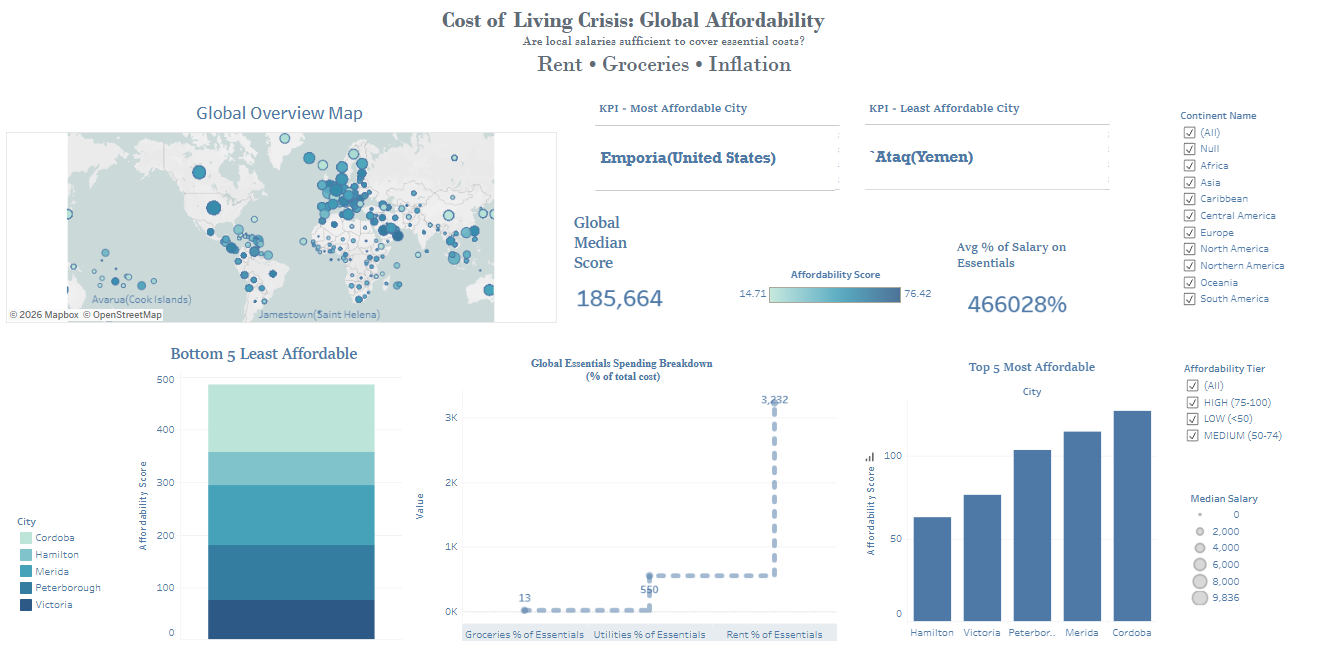

Layout of this report page (visuals, bound fields, positions):
{"tool":"tableau","page":{"name":"Global Affordability Tracker 2025","canvas":[1600,800],"ordinal":2},"visuals":[{"type":"text","box":[0,0,1600,116]},{"type":"text","box":[0,116,1600,684]},{"type":"worksheet","title":"1) Global Overview Map","mark":"Circle","box":[11,124,661,272]},{"type":"worksheet","title":"KPI – Least Affordable (City)","mark":"Automatic","rows":["Calculation_1248623037751099394"],"box":[1042,125,315,111]},{"type":"worksheet","title":" KPI – Most Affordable (City).","mark":"Automatic","rows":["Calculation_1248623037751099394"],"box":[718,126,300,165]},{"type":"filter","title":"1) Global Overview Map","param":"[federated.01ods2h1wf629m1bzxo0s10bfq2g].[none:continent_name:nk]","box":[1420,138,160,281]},{"type":"worksheet","title":"Global Median Score","mark":"Automatic","box":[688,259,314,158]},{"type":"worksheet","title":"KPI – Avg Essentials %.","mark":"Automatic","box":[1148,281,329,140]},{"type":"legend","title":"1) Global Overview Map","param":"[federated.01ods2h1wf629m1bzxo0s10bfq2g].[sum:affordability_score:qk]","box":[887,329,239,85]},{"type":"worksheet","title":"Bottom 5 Least Affordable ","mark":"Automatic","rows":["affordability_score"],"box":[159,416,327,361]},{"type":"worksheet","title":"global essentials spending breakdown","mark":"Line","box":[491,431,517,347]},{"type":"worksheet","title":"Top 5 Most Affordable","mark":"Automatic","rows":["affordability_score"],"cols":["city"],"box":[1032,434,466,342]},{"type":"filter","title":"1) Global Overview Map","param":"[federated.01ods2h1wf629m1bzxo0s10bfq2g].[none:Calculation_1248623037750276097:n","box":[1424,442,160,120]},{"type":"legend","title":"1) Global Overview Map","param":"[federated.01ods2h1wf629m1bzxo0s10bfq2g].[sum:median_salary:qk]","box":[1432,597,140,161]},{"type":"legend","title":"Bottom 5 Least Affordable ","param":"[federated.01ods2h1wf629m1bzxo0s10bfq2g].[none:city:nk]","box":[24,625,136,154]}]}

Visuals, with their boxes in screenshot pixels (x1, y1, x2, y2), scaled from the page's 1600x800 canvas onto the 1325x652 screenshot:
text: {"left": 0, "top": 0, "right": 1324, "bottom": 95}
text: {"left": 0, "top": 95, "right": 1324, "bottom": 651}
"1) Global Overview Map" worksheet (Circle marks): {"left": 9, "top": 101, "right": 556, "bottom": 323}
"KPI – Least Affordable (City)" worksheet: {"left": 863, "top": 102, "right": 1124, "bottom": 192}
" KPI – Most Affordable (City)." worksheet: {"left": 595, "top": 103, "right": 843, "bottom": 237}
"1) Global Overview Map" filter: {"left": 1176, "top": 112, "right": 1308, "bottom": 341}
"Global Median Score" worksheet: {"left": 570, "top": 211, "right": 830, "bottom": 340}
"KPI – Avg Essentials %." worksheet: {"left": 951, "top": 229, "right": 1223, "bottom": 343}
"1) Global Overview Map" legend: {"left": 735, "top": 268, "right": 932, "bottom": 337}
"Bottom 5 Least Affordable " worksheet: {"left": 132, "top": 339, "right": 402, "bottom": 633}
"global essentials spending breakdown" worksheet (Line marks): {"left": 407, "top": 351, "right": 835, "bottom": 634}
"Top 5 Most Affordable" worksheet: {"left": 855, "top": 354, "right": 1241, "bottom": 632}
"1) Global Overview Map" filter: {"left": 1179, "top": 360, "right": 1312, "bottom": 458}
"1) Global Overview Map" legend: {"left": 1186, "top": 487, "right": 1302, "bottom": 618}
"Bottom 5 Least Affordable " legend: {"left": 20, "top": 509, "right": 132, "bottom": 635}
